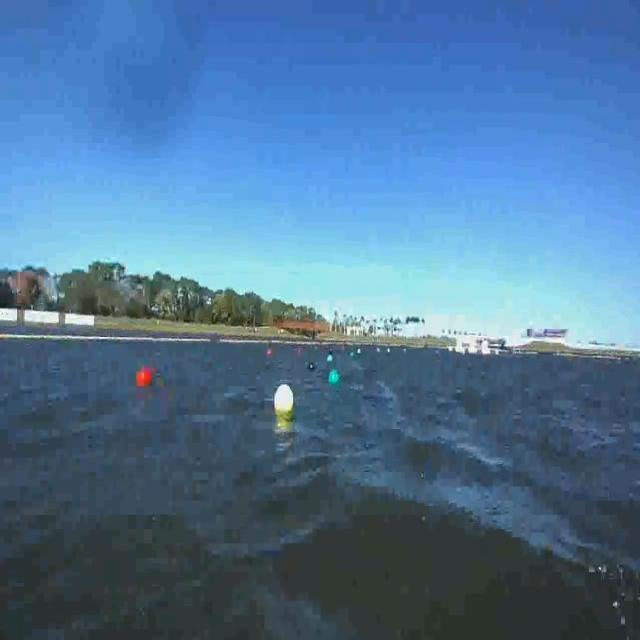black-buoy: (306, 358, 315, 372)
green-buoy: (328, 370, 339, 387)
red-buoy: (138, 370, 152, 388)
yellow-buoy: (274, 384, 294, 416)
